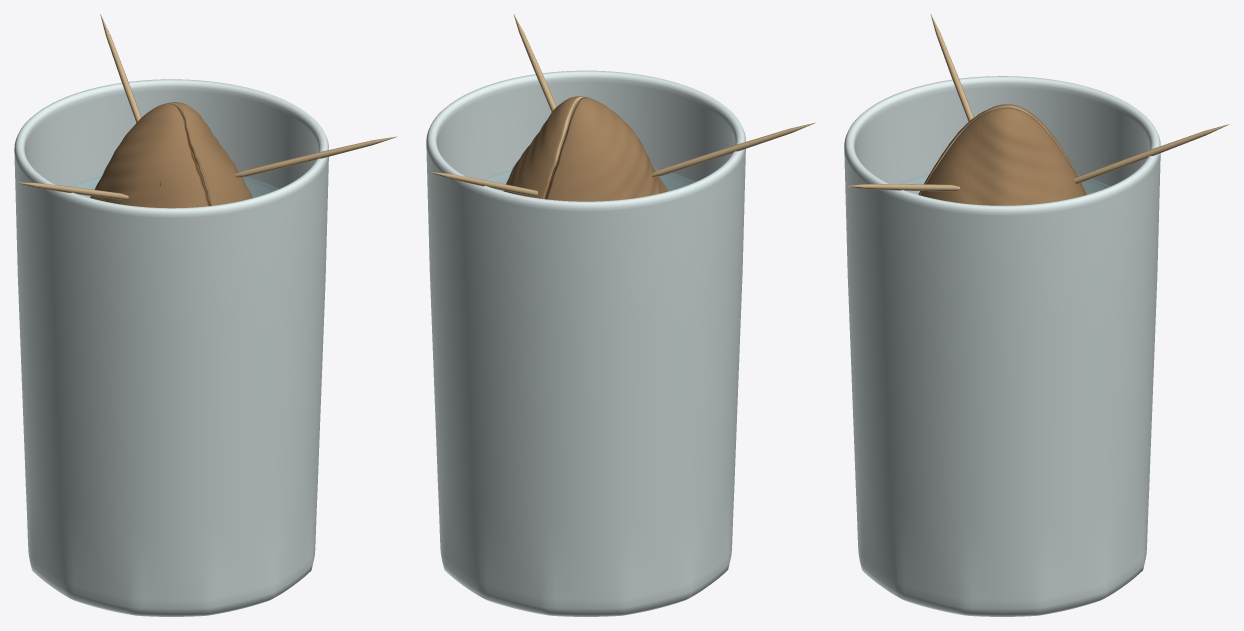
3 views of the same model, side by side, from view 1: azimuth 30°, elevation 25°; view 2: azimuth 150°, elevation 25°; view 3: azimuth 270°, elevation 25° (orthographic).
Parts seen in each view (by area): view 1: Стакан · венчик и гранёное дно, Семядоля, Семядоля.001, Зубочистка.002, Зубочистка.001, Зубочистка, Вода; view 2: Стакан · венчик и гранёное дно, Семядоля, Семядоля.001, Зубочистка.001, Зубочистка, Зубочистка.002, Вода; view 3: Стакан · венчик и гранёное дно, Семядоля.001, Зубочистка, Семядоля, Зубочистка.002, Зубочистка.001.
Boxes of the visible parts, bbox=[...] form: Стакан · венчик и гранёное дно: bbox=[14, 79, 328, 616]; Семядоля: bbox=[90, 103, 208, 208]; Семядоля.001: bbox=[167, 102, 252, 205]; Зубочистка.002: bbox=[235, 136, 397, 177]; Зубочистка.001: bbox=[17, 182, 128, 199]; Зубочистка: bbox=[100, 14, 141, 122]; Вода: bbox=[70, 176, 278, 197]; Стакан · венчик и гранёное дно: bbox=[426, 70, 745, 616]; Семядоля: bbox=[546, 97, 668, 201]; Семядоля.001: bbox=[503, 96, 585, 198]; Зубочистка.001: bbox=[651, 122, 815, 177]; Зубочистка: bbox=[429, 172, 538, 196]; Зубочистка.002: bbox=[513, 14, 556, 111]; Вода: bbox=[483, 169, 694, 190]; Стакан · венчик и гранёное дно: bbox=[844, 76, 1160, 616]; Семядоля.001: bbox=[920, 107, 1085, 205]; Зубочистка: bbox=[1074, 124, 1229, 184]; Семядоля: bbox=[918, 104, 1086, 195]; Зубочистка.002: bbox=[847, 184, 959, 191]; Зубочистка.001: bbox=[930, 14, 973, 121].
Bounding box in the file's own units: 0.0932 × 0.1197 × 0.0913.
